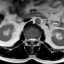CCS_normal: (31, 36, 33, 46)
LFS_normal: (36, 36, 38, 43)
LLS_normal: (33, 36, 36, 44)
RFS_normal: (26, 35, 28, 43)
RLS_normal: (28, 36, 31, 44)
